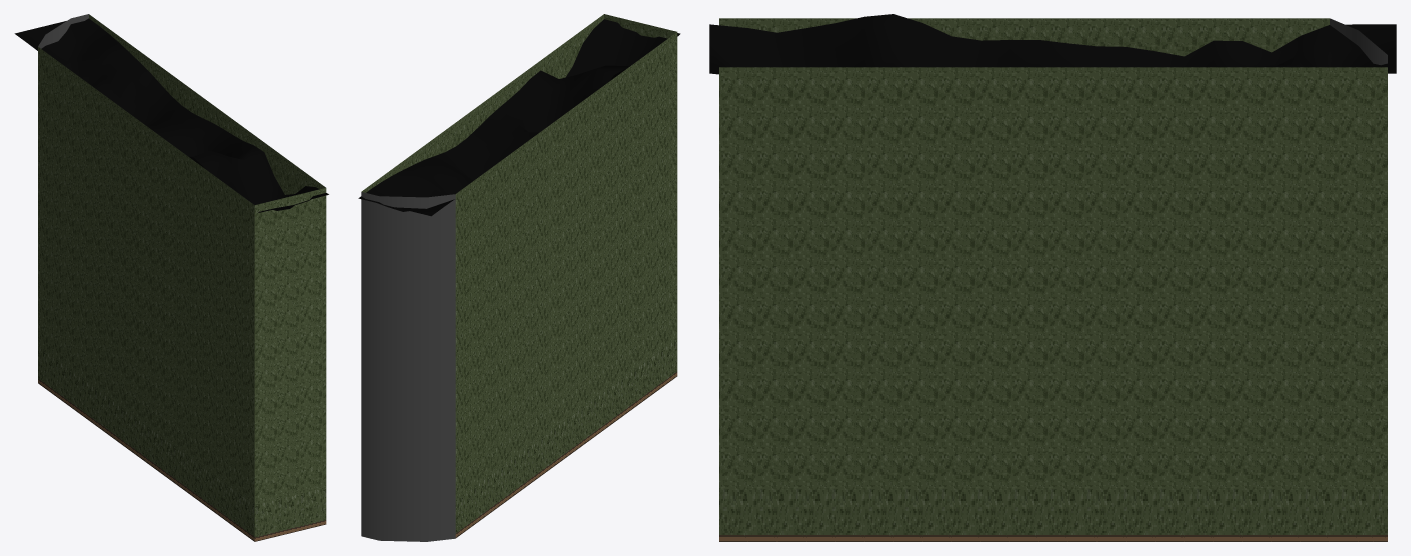
The model's file is r_NorthHall.fbx.
3 renders of one model, left to right at view 1: azimuth 30°, elevation 25°; view 2: azimuth 150°, elevation 25°; view 3: azimuth 270°, elevation 25°, orthographic. The views are drawn at different scales.
Visible parts, largest first — view 1: pPlane1, pPlane2; view 2: pPlane1, pPlane2; view 3: pPlane1, pPlane2.
Boxes of the visible parts, <box> form: pPlane1: <box>38,14,326,541</box>; pPlane2: <box>14,18,328,212</box>; pPlane1: <box>361,14,677,541</box>; pPlane2: <box>358,19,680,216</box>; pPlane1: <box>719,18,1387,541</box>; pPlane2: <box>709,14,1396,74</box>.
Bounding box in the file's own units: 4 × 18.27 × 23.62.
